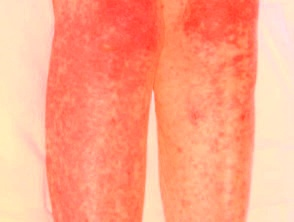SJS-TEN: (41, 0, 265, 222)
